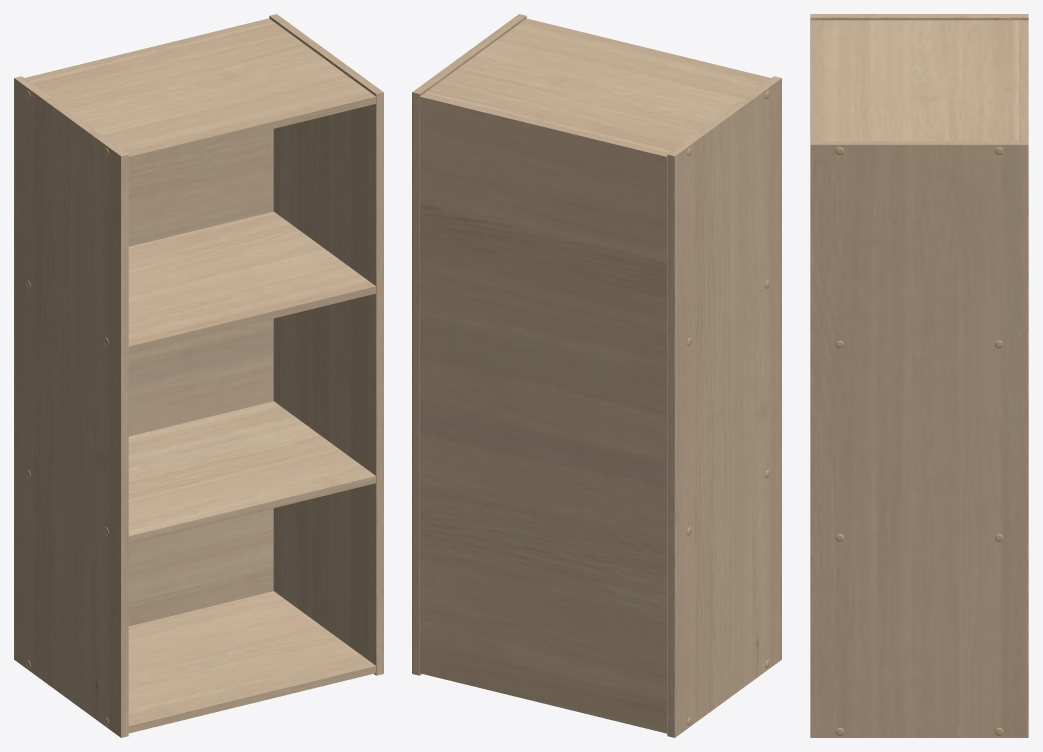
Rendered from B07TTY3FYP.glb.
3 views of the same model, side by side, from view 1: azimuth 30°, elevation 25°; view 2: azimuth 150°, elevation 25°; view 3: azimuth 270°, elevation 25° (orthographic).
Parts seen in each view (by area): view 1: consolidatedNode; view 2: consolidatedNode; view 3: consolidatedNode.
Part boxes in pixels (x1,y1,x2,y2): consolidatedNode: (14,14,383,737); consolidatedNode: (412,14,781,737); consolidatedNode: (810,14,1028,737).
Size of the model in its own units: 0.4166 by 0.8763 by 0.2924.
1 material, 1 textured.
